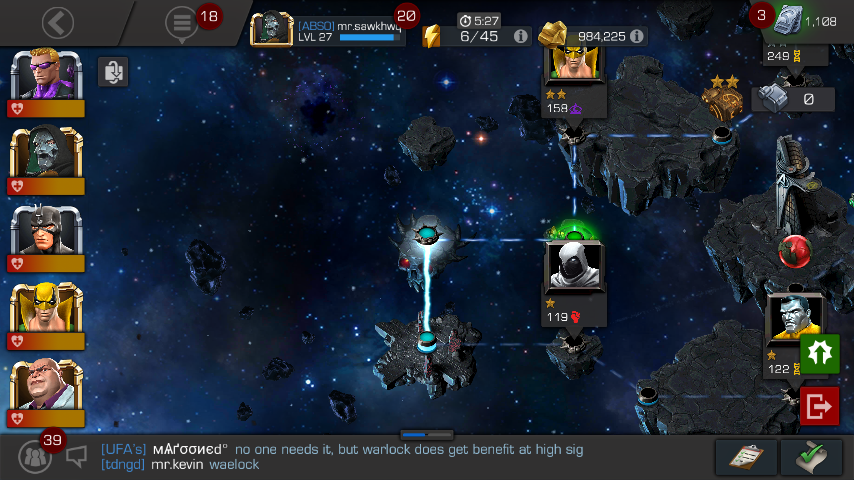green: (565, 231, 584, 240)
